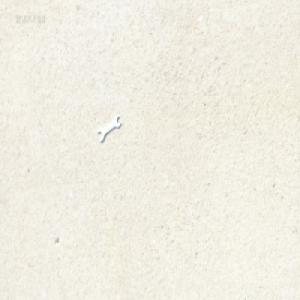Wrench: (97, 114, 120, 142)
